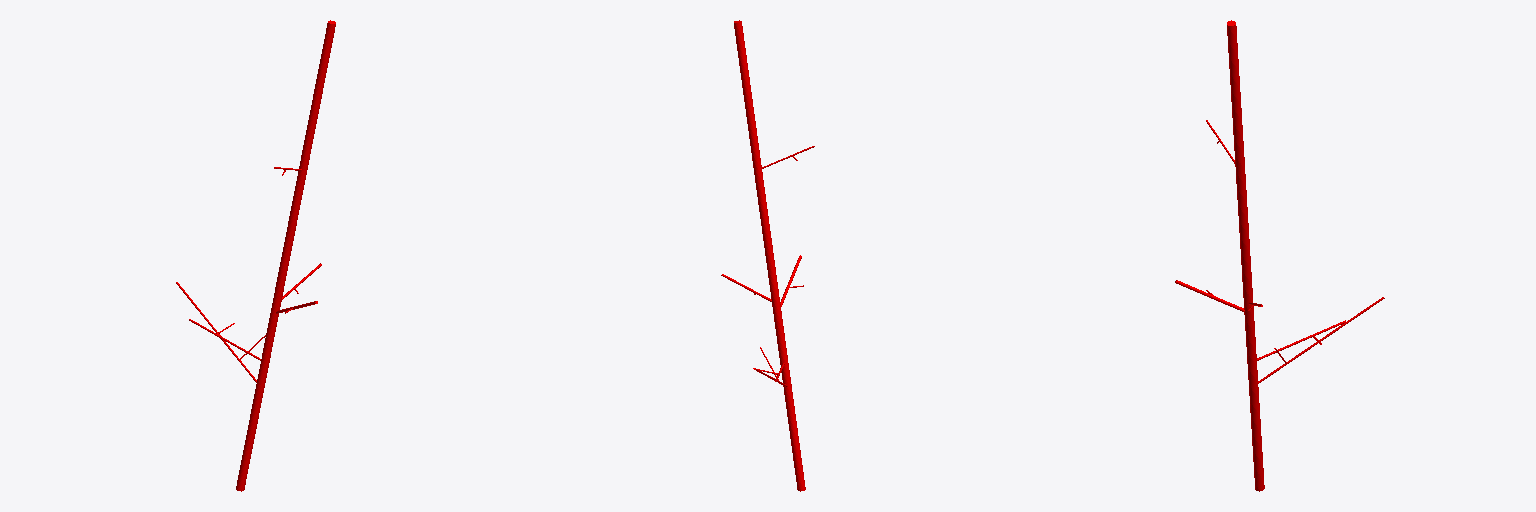
URDF robot description (tree_71.urdf):
<?xml version='1.0' encoding='UTF-8'?>
<robot name="tree_71.urdf">
  <link name="branch_0">
    <inertial>
      <origin xyz="0.0 0.0 0.0" rpy="0.0 -0.0 0.0"/>
      <mass value="0.1"/>
      <inertia ixx="0.001" ixy="0.0" ixz="0.0" iyy="0.001" iyz="0.0" izz="0.001"/>
    </inertial>
    <visual name="branch_0_visual">
      <geometry>
        <cylinder radius="0.06052610088100956" length="7.182038943698421"/>
      </geometry>
      <material name="semantic_material"/>
      <origin xyz="0.6398584271732877 -0.1788651064203985 3.529023847196379" rpy="6.682705201380118e-18 0.18608588515460292 -0.272580763136926"/>
    </visual>
    <collision name="branch_0_collision">
      <geometry>
        <cylinder radius="0.06052610088100956" length="7.182038943698421"/>
      </geometry>
      <origin xyz="0.6398584271732877 -0.1788651064203985 3.529023847196379" rpy="6.682705201380118e-18 0.18608588515460292 -0.272580763136926"/>
    </collision>
  </link>
  <link name="branch_1">
    <inertial>
      <origin xyz="0.0 0.0 0.0" rpy="0.0 -0.0 0.0"/>
      <mass value="0.1"/>
      <inertia ixx="0.001" ixy="0.0" ixz="0.0" iyy="0.001" iyz="0.0" izz="0.001"/>
    </inertial>
    <visual name="branch_1_visual">
      <geometry>
        <cylinder radius="0.014748516526741407" length="1.9870601833746842"/>
      </geometry>
      <material name="semantic_material"/>
      <origin xyz="0.0 0.0 0.0" rpy="0.0 -0.0 0.0"/>
    </visual>
    <collision name="branch_1_collision">
      <geometry>
        <cylinder radius="0.014748516526741407" length="1.9870601833746842"/>
      </geometry>
      <origin xyz="0.0 0.0 0.0" rpy="0.0 -0.0 0.0"/>
    </collision>
  </link>
  <link name="branch_2">
    <inertial>
      <origin xyz="0.0 0.0 0.0" rpy="0.0 -0.0 0.0"/>
      <mass value="0.1"/>
      <inertia ixx="0.001" ixy="0.0" ixz="0.0" iyy="0.001" iyz="0.0" izz="0.001"/>
    </inertial>
    <visual name="branch_2_visual">
      <geometry>
        <cylinder radius="0.01" length="0.5940947811790319"/>
      </geometry>
      <material name="semantic_material"/>
      <origin xyz="0.0 0.0 0.0" rpy="0.0 -0.0 0.0"/>
    </visual>
    <collision name="branch_2_collision">
      <geometry>
        <cylinder radius="0.01" length="0.5940947811790319"/>
      </geometry>
      <origin xyz="0.0 0.0 0.0" rpy="0.0 -0.0 0.0"/>
    </collision>
  </link>
  <link name="branch_3">
    <inertial>
      <origin xyz="0.0 0.0 0.0" rpy="0.0 -0.0 0.0"/>
      <mass value="0.1"/>
      <inertia ixx="0.001" ixy="0.0" ixz="0.0" iyy="0.001" iyz="0.0" izz="0.001"/>
    </inertial>
    <visual name="branch_3_visual">
      <geometry>
        <cylinder radius="0.017571166841887496" length="0.9006979373298781"/>
      </geometry>
      <material name="semantic_material"/>
      <origin xyz="0.0 0.0 0.0" rpy="0.0 -0.0 0.0"/>
    </visual>
    <collision name="branch_3_collision">
      <geometry>
        <cylinder radius="0.017571166841887496" length="0.9006979373298781"/>
      </geometry>
      <origin xyz="0.0 0.0 0.0" rpy="0.0 -0.0 0.0"/>
    </collision>
  </link>
  <link name="branch_4">
    <inertial>
      <origin xyz="0.0 0.0 0.0" rpy="0.0 -0.0 0.0"/>
      <mass value="0.1"/>
      <inertia ixx="0.001" ixy="0.0" ixz="0.0" iyy="0.001" iyz="0.0" izz="0.001"/>
    </inertial>
    <visual name="branch_4_visual">
      <geometry>
        <cylinder radius="0.01" length="0.10669677184107883"/>
      </geometry>
      <material name="semantic_material"/>
      <origin xyz="0.0 0.0 0.0" rpy="0.0 -0.0 0.0"/>
    </visual>
    <collision name="branch_4_collision">
      <geometry>
        <cylinder radius="0.01" length="0.10669677184107883"/>
      </geometry>
      <origin xyz="0.0 0.0 0.0" rpy="0.0 -0.0 0.0"/>
    </collision>
  </link>
  <link name="branch_5">
    <inertial>
      <origin xyz="0.0 0.0 0.0" rpy="0.0 -0.0 0.0"/>
      <mass value="0.1"/>
      <inertia ixx="0.001" ixy="0.0" ixz="0.0" iyy="0.001" iyz="0.0" izz="0.001"/>
    </inertial>
    <visual name="branch_5_visual">
      <geometry>
        <cylinder radius="0.012448608814358489" length="0.9017659629703456"/>
      </geometry>
      <material name="semantic_material"/>
      <origin xyz="0.0 0.0 0.0" rpy="0.0 -0.0 0.0"/>
    </visual>
    <collision name="branch_5_collision">
      <geometry>
        <cylinder radius="0.012448608814358489" length="0.9017659629703456"/>
      </geometry>
      <origin xyz="0.0 0.0 0.0" rpy="0.0 -0.0 0.0"/>
    </collision>
  </link>
  <link name="branch_6">
    <inertial>
      <origin xyz="0.0 0.0 0.0" rpy="0.0 -0.0 0.0"/>
      <mass value="0.1"/>
      <inertia ixx="0.001" ixy="0.0" ixz="0.0" iyy="0.001" iyz="0.0" izz="0.001"/>
    </inertial>
    <visual name="branch_6_visual">
      <geometry>
        <cylinder radius="0.01" length="0.11214771604208491"/>
      </geometry>
      <material name="semantic_material"/>
      <origin xyz="0.0 0.0 0.0" rpy="0.0 -0.0 0.0"/>
    </visual>
    <collision name="branch_6_collision">
      <geometry>
        <cylinder radius="0.01" length="0.11214771604208491"/>
      </geometry>
      <origin xyz="0.0 0.0 0.0" rpy="0.0 -0.0 0.0"/>
    </collision>
  </link>
  <link name="branch_7">
    <inertial>
      <origin xyz="0.0 0.0 0.0" rpy="0.0 -0.0 0.0"/>
      <mass value="0.1"/>
      <inertia ixx="0.001" ixy="0.0" ixz="0.0" iyy="0.001" iyz="0.0" izz="0.001"/>
    </inertial>
    <visual name="branch_7_visual">
      <geometry>
        <cylinder radius="0.014999003724796976" length="1.3333810960265104"/>
      </geometry>
      <material name="semantic_material"/>
      <origin xyz="0.0 0.0 0.0" rpy="0.0 -0.0 0.0"/>
    </visual>
    <collision name="branch_7_collision">
      <geometry>
        <cylinder radius="0.014999003724796976" length="1.3333810960265104"/>
      </geometry>
      <origin xyz="0.0 0.0 0.0" rpy="0.0 -0.0 0.0"/>
    </collision>
  </link>
  <link name="branch_8">
    <inertial>
      <origin xyz="0.0 0.0 0.0" rpy="0.0 -0.0 0.0"/>
      <mass value="0.1"/>
      <inertia ixx="0.001" ixy="0.0" ixz="0.0" iyy="0.001" iyz="0.0" izz="0.001"/>
    </inertial>
    <visual name="branch_8_visual">
      <geometry>
        <cylinder radius="0.01" length="0.38303188197131927"/>
      </geometry>
      <material name="semantic_material"/>
      <origin xyz="0.0 0.0 0.0" rpy="0.0 -0.0 0.0"/>
    </visual>
    <collision name="branch_8_collision">
      <geometry>
        <cylinder radius="0.01" length="0.38303188197131927"/>
      </geometry>
      <origin xyz="0.0 0.0 0.0" rpy="0.0 -0.0 0.0"/>
    </collision>
  </link>
  <link name="branch_9">
    <inertial>
      <origin xyz="0.0 0.0 0.0" rpy="0.0 -0.0 0.0"/>
      <mass value="0.1"/>
      <inertia ixx="0.001" ixy="0.0" ixz="0.0" iyy="0.001" iyz="0.0" izz="0.001"/>
    </inertial>
    <visual name="branch_9_visual">
      <geometry>
        <cylinder radius="0.022315434873604545" length="1.0593566775650551"/>
      </geometry>
      <material name="semantic_material"/>
      <origin xyz="0.0 0.0 0.0" rpy="0.0 -0.0 0.0"/>
    </visual>
    <collision name="branch_9_collision">
      <geometry>
        <cylinder radius="0.022315434873604545" length="1.0593566775650551"/>
      </geometry>
      <origin xyz="0.0 0.0 0.0" rpy="0.0 -0.0 0.0"/>
    </collision>
  </link>
  <link name="branch_10">
    <inertial>
      <origin xyz="0.0 0.0 0.0" rpy="0.0 -0.0 0.0"/>
      <mass value="0.1"/>
      <inertia ixx="0.001" ixy="0.0" ixz="0.0" iyy="0.001" iyz="0.0" izz="0.001"/>
    </inertial>
    <visual name="branch_10_visual">
      <geometry>
        <cylinder radius="0.01" length="0.2382099772078987"/>
      </geometry>
      <material name="semantic_material"/>
      <origin xyz="0.0 0.0 0.0" rpy="0.0 -0.0 0.0"/>
    </visual>
    <collision name="branch_10_collision">
      <geometry>
        <cylinder radius="0.01" length="0.2382099772078987"/>
      </geometry>
      <origin xyz="0.0 0.0 0.0" rpy="0.0 -0.0 0.0"/>
    </collision>
  </link>
  <joint name="joint_0_1" type="fixed">
    <parent link="branch_0"/>
    <child link="branch_1"/>
    <axis xyz="1. 0. 0."/>
    <origin xyz="0.07958312177564869 0.7428970225701386 2.0786579574638897" rpy="0.28360470813075156 0.994252857898701 2.147559981222718"/>
  </joint>
  <joint name="joint_0_3" type="fixed">
    <parent link="branch_0"/>
    <child link="branch_3"/>
    <axis xyz="1. 0. 0."/>
    <origin xyz="0.918423244996671 -0.057863130038179514 2.984695044907675" rpy="0.23946458228546075 1.170717314904862 0.46391801955928064"/>
  </joint>
  <joint name="joint_0_5" type="fixed">
    <parent link="branch_0"/>
    <child link="branch_5"/>
    <axis xyz="1. 0. 0."/>
    <origin xyz="0.5246233666142186 -0.4592038481620929 5.010092457994316" rpy="-0.30293672352514994 1.123185075289127 -2.9250762701496744"/>
  </joint>
  <joint name="joint_0_7" type="fixed">
    <parent link="branch_0"/>
    <child link="branch_7"/>
    <axis xyz="1. 0. 0."/>
    <origin xyz="0.07811605851357391 0.49182900498496873 2.07769749103707" rpy="0.5355546733658566 1.2966380881562396 2.5534895701033644"/>
  </joint>
  <joint name="joint_0_9" type="fixed">
    <parent link="branch_0"/>
    <child link="branch_9"/>
    <axis xyz="1. 0. 0."/>
    <origin xyz="0.5560170227571575 -0.596339232440192 2.9201809986101868" rpy="-0.35468180379427106 1.0418719575213824 -1.821109842166226"/>
  </joint>
  <joint name="joint_1_2" type="fixed">
    <parent link="branch_0"/>
    <child link="branch_2"/>
    <axis xyz="1. 0. 0."/>
    <origin xyz="0.3846739069160607 0.2611903630589447 2.02314798153859" rpy="-0.6477622501613431 0.5374338657008402 -1.316741285417162"/>
  </joint>
  <joint name="joint_3_4" type="fixed">
    <parent link="branch_0"/>
    <child link="branch_4"/>
    <axis xyz="1. 0. 0."/>
    <origin xyz="0.8502551152023667 -0.10789229303982531 2.9107666225400965" rpy="-2.4469133303530914 0.27226010188049315 -3.0422267724165577"/>
  </joint>
  <joint name="joint_5_6" type="fixed">
    <parent link="branch_0"/>
    <child link="branch_6"/>
    <axis xyz="1. 0. 0."/>
    <origin xyz="0.41552624172649866 -0.518127105188098 5.0107244975727445" rpy="-2.956412397508526 0.8482463123871734 0.6341882475045901"/>
  </joint>
  <joint name="joint_7_8" type="fixed">
    <parent link="branch_0"/>
    <child link="branch_8"/>
    <axis xyz="1. 0. 0."/>
    <origin xyz="0.18061377201950007 0.7195487875768595 2.1479521964966066" rpy="-1.4369939863303482 0.2497539035174194 -1.2437279321590535"/>
  </joint>
  <joint name="joint_9_10" type="fixed">
    <parent link="branch_0"/>
    <child link="branch_10"/>
    <axis xyz="1. 0. 0."/>
    <origin xyz="0.4470816937379971 -0.6092575895967325 2.9053502689059902" rpy="-1.4604064535827994 0.4911292111142726 2.168289395644053"/>
  </joint>
  <material name="semantic_material">
    <color rgba="1. 0. 0. 1."/>
  </material>
</robot>

--- Facts derived from the render (not from the file) ---
The picture shows the robot from 3 angles, left to right: view 1: azimuth 30°, elevation 25°; view 2: azimuth 150°, elevation 25°; view 3: azimuth 270°, elevation 25°; orthographic projection.
Robot: tree_71.urdf — 11 links, 10 joints (10 fixed); root link branch_0; default pose: all joints at 0.
Links seen in each view (by area): view 1: branch_0; view 2: branch_0; view 3: branch_0.
Boxes of the visible links, x1,y1,x2,y2 form: branch_0: [236, 20, 335, 491]; branch_0: [734, 20, 805, 491]; branch_0: [1227, 20, 1264, 491].
Bounding box of the posed robot: 1.55 × 2.64 × 7.08 m (x, y, z).
Geometry: primitives only (box / cylinder / sphere), no mesh files.
